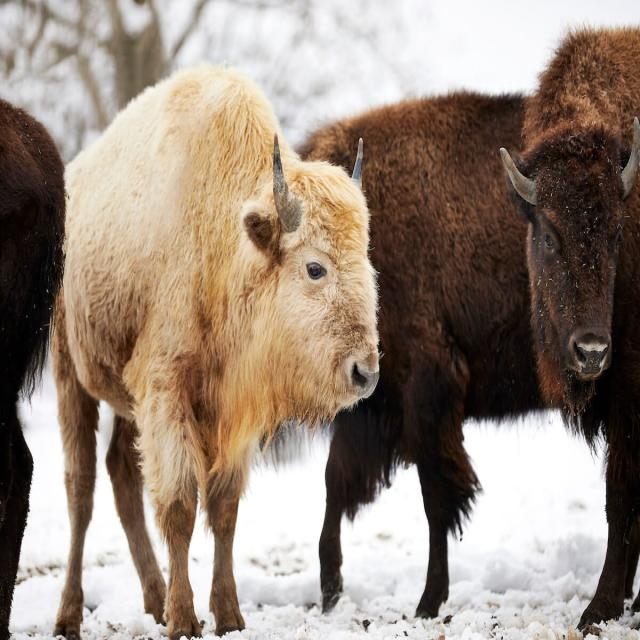Bison: (47, 54, 382, 640)
